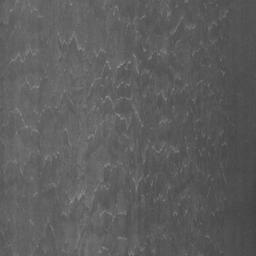Silk spot: (0, 0, 247, 256), (243, 180, 256, 248)
